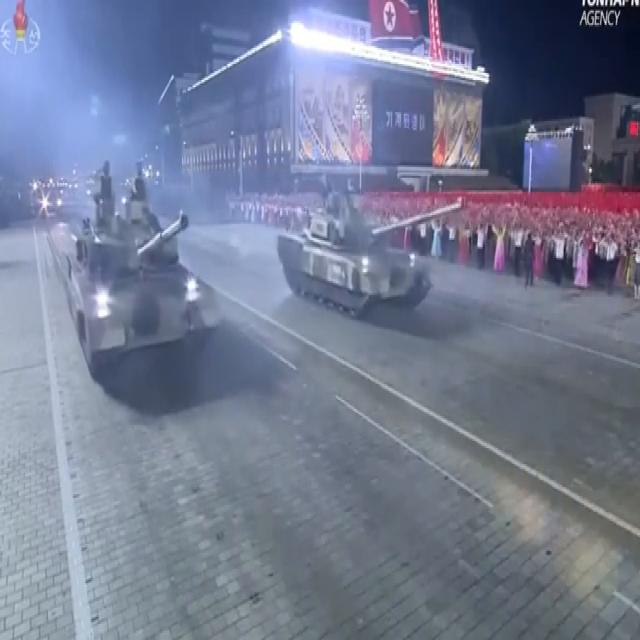north tank: (45, 130, 219, 406), (255, 124, 470, 341)
